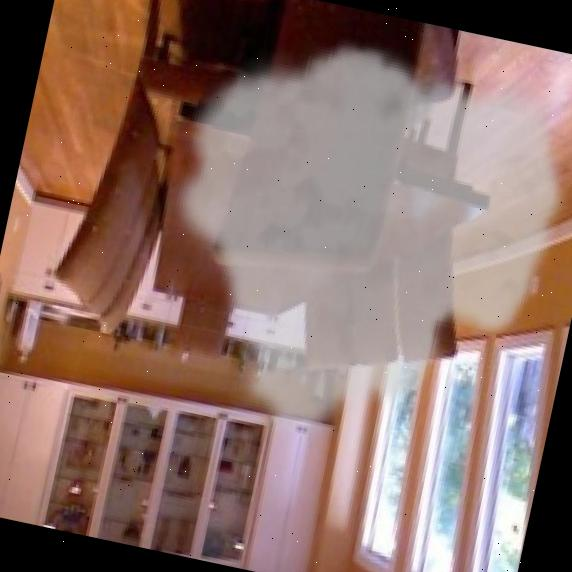smoke: (119, 7, 572, 490)
